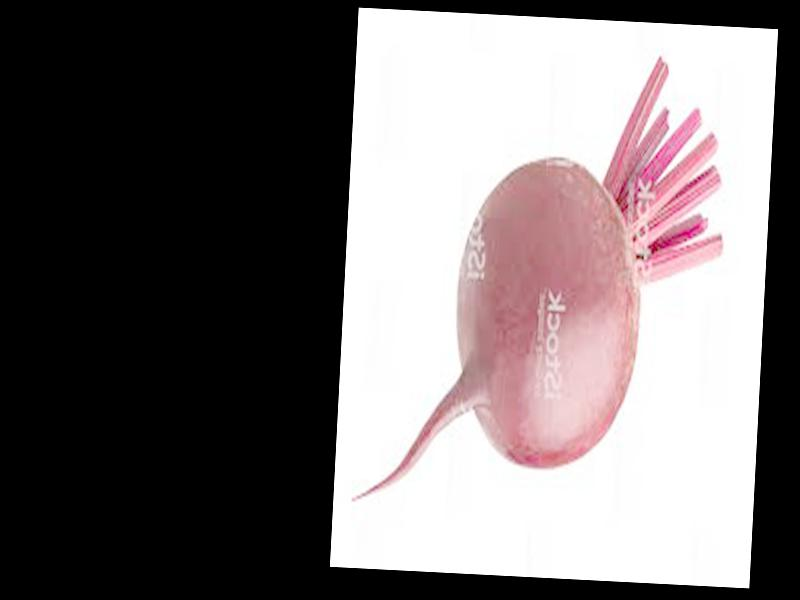Beet: (357, 44, 732, 521)
